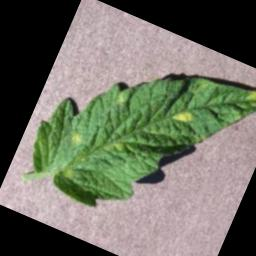Leaf_Mold: (169, 103, 195, 126), (66, 128, 85, 146), (244, 85, 256, 104)
